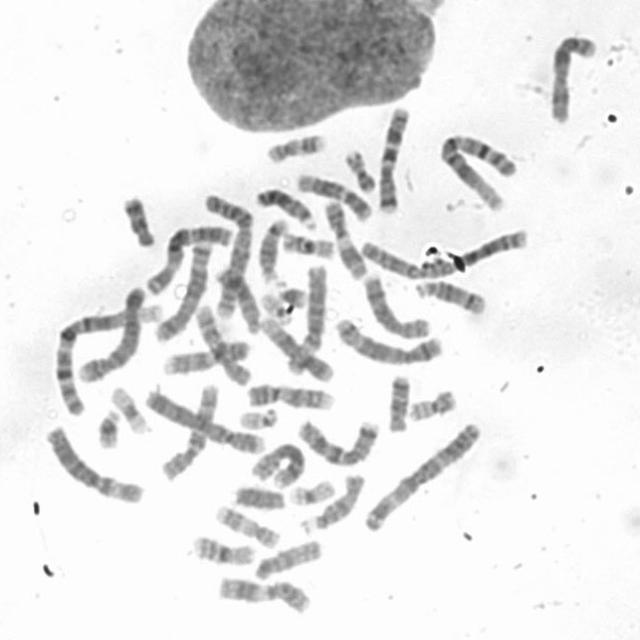A1: (50, 294, 163, 416), (434, 125, 521, 212)
A2: (356, 221, 532, 281), (198, 186, 254, 321)
A3: (359, 416, 485, 534), (143, 218, 237, 296)
B4: (141, 384, 269, 456), (73, 280, 149, 386)
B5: (149, 232, 214, 344), (330, 312, 446, 367)
C10: (154, 380, 220, 482), (190, 298, 254, 389)
C11: (318, 194, 371, 281), (213, 572, 314, 616)
C12: (255, 310, 336, 382), (291, 166, 374, 223)
C6: (40, 420, 146, 506), (282, 258, 330, 378)
C7: (294, 413, 382, 468), (372, 100, 413, 216)
C8: (358, 268, 433, 340), (246, 436, 307, 489)
C9: (159, 334, 253, 376), (242, 378, 337, 412)
D13: (212, 262, 265, 336), (251, 180, 318, 231)
D14: (411, 274, 490, 316), (253, 212, 290, 282)
D15: (296, 468, 367, 534), (250, 534, 324, 580)
E16: (188, 529, 258, 567), (279, 227, 336, 260)
E17: (210, 499, 283, 550), (261, 127, 329, 165)
E18: (118, 189, 158, 249), (383, 369, 412, 434)
F19: (106, 380, 152, 436), (286, 475, 338, 507)
F20: (404, 382, 459, 422), (340, 142, 380, 195)
G21: (92, 403, 122, 450), (272, 276, 310, 309)
G22: (258, 288, 294, 326), (235, 402, 281, 431)
X: (545, 28, 600, 125)
Y: (230, 480, 288, 512)
